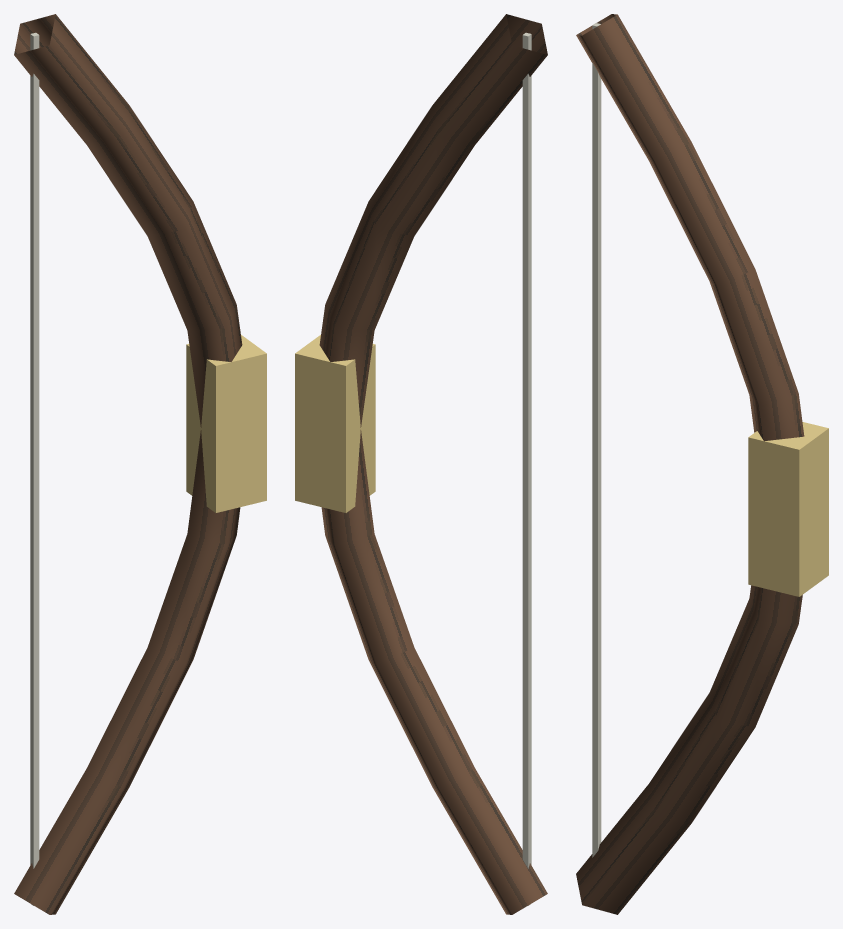
File: bow_tier1.glb
3 views of the same model, side by side, from view 1: azimuth 30°, elevation 25°; view 2: azimuth 150°, elevation 25°; view 3: azimuth 330°, elevation 25° (orthographic).
Parts seen in each view (by area): view 1: Bow_limb, Grip.003, String; view 2: Bow_limb, Grip.003, String; view 3: Bow_limb, Grip.003, String.
Boxes of the visible parts, x1,y1,x2,y2 form: Bow_limb: [14, 14, 242, 914]; Grip.003: [186, 335, 266, 512]; String: [30, 32, 39, 905]; Bow_limb: [319, 14, 547, 914]; Grip.003: [295, 335, 375, 512]; String: [522, 32, 531, 905]; Bow_limb: [576, 14, 804, 914]; Grip.003: [748, 422, 828, 596]; String: [592, 23, 601, 857].
Bounding box in the file's own units: 0.3727 × 1.35 × 0.08.
3 materials, 1 textured.
